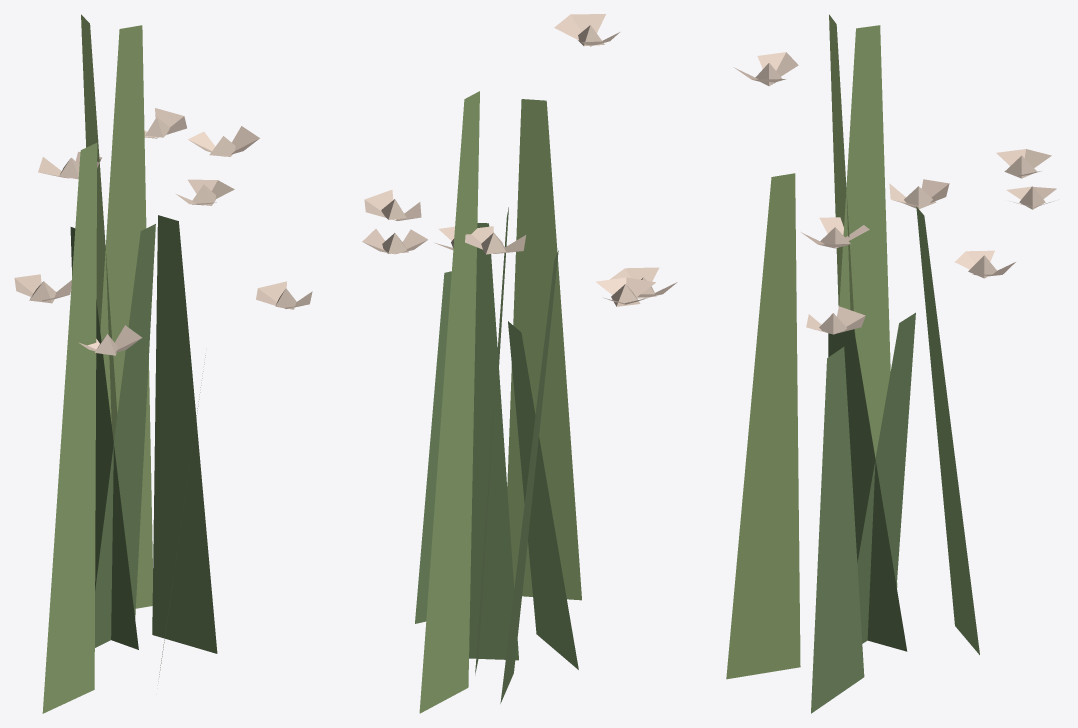
The model's file is nong.su@flowering__spring.glb.
The picture shows the model from 3 angles, left to right: view 1: azimuth 30°, elevation 25°; view 2: azimuth 150°, elevation 25°; view 3: azimuth 270°, elevation 25°; orthographic projection. The views are drawn at different scales.
Parts seen in each view (by area): view 1: nong.su@flowering__spring; view 2: nong.su@flowering__spring; view 3: nong.su@flowering__spring.
Boxes of the visible parts, box(x1,y1,x2,y2) form: nong.su@flowering__spring: box(14, 14, 312, 713); nong.su@flowering__spring: box(362, 14, 677, 713); nong.su@flowering__spring: box(726, 14, 1056, 713).
Bounding box in the file's own units: 0.4721 × 0.9887 × 0.4925.
